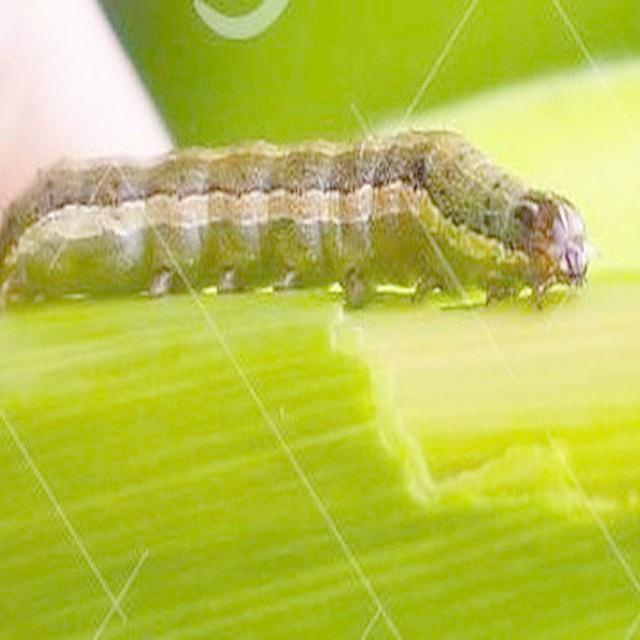Plaga: (10, 129, 588, 311)
